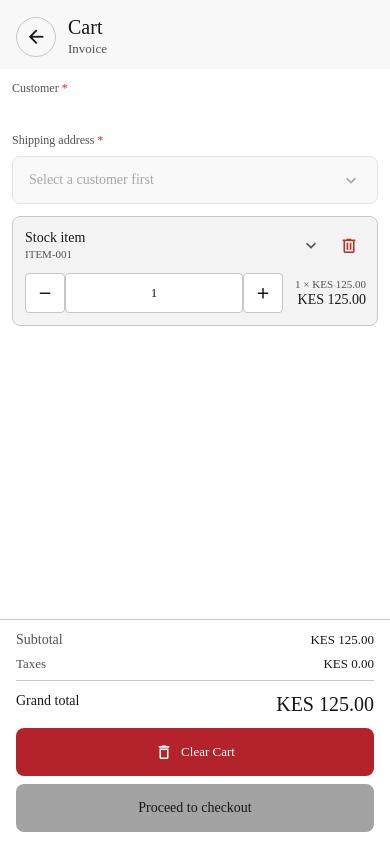
PosCartScreen › requires a customer before checkout while retaining the temporary cart
expect the element with test id "cart-customer-label" has style "fontSize: 12": met, box [12,81,68,95]
expect the element with test id "cart-shipping-address-label" has style "fontSize: 12": met, box [12,133,103,147]
Step 1. Click the element labelled "Proceed to checkout" → click(195, 808), box [16,784,374,832]
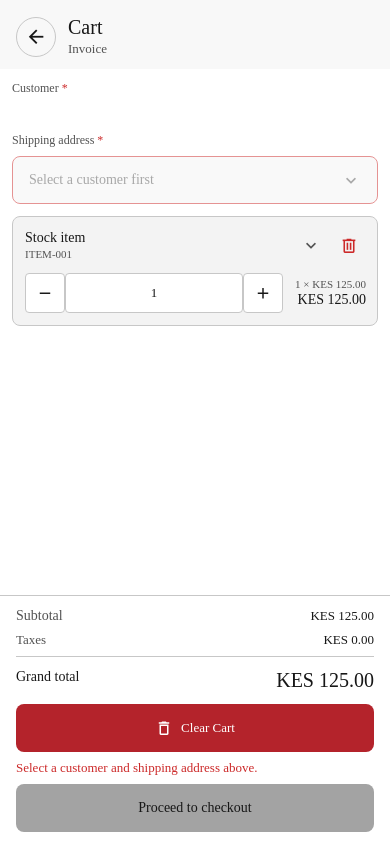
expect the text "Select a customer and shipping address above." is shown: met, box [16,760,258,775]
